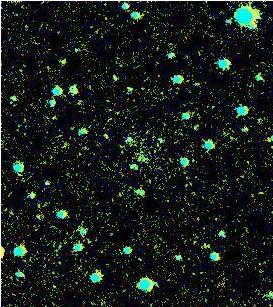star: (50, 49, 80, 79)
